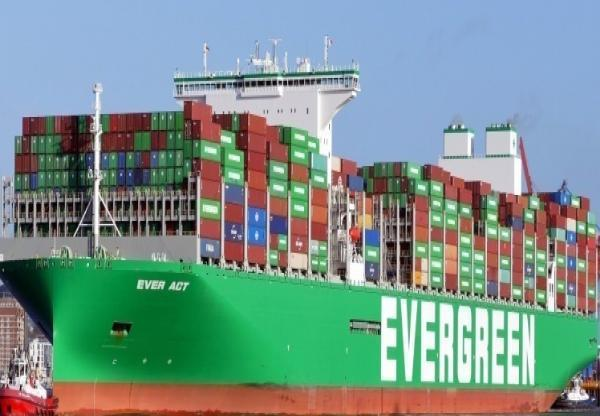Container Ship: (0, 32, 599, 415)
